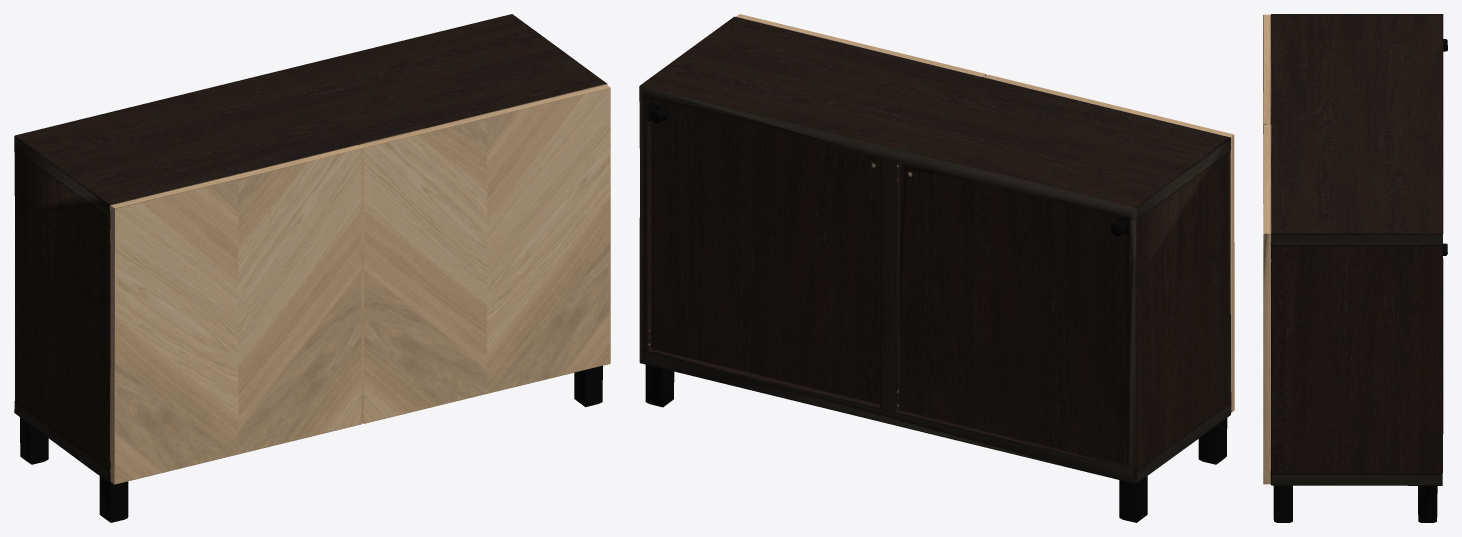
The model's file is 18 - BESTÅ Storage combination with doors - black-brownHedevikenStubbarp oak veneer 120x42x74 cm.glb.
The picture shows the model from 3 angles, left to right: view 1: azimuth 30°, elevation 25°; view 2: azimuth 150°, elevation 25°; view 3: azimuth 270°, elevation 25°; orthographic projection. The views are drawn at different scales.
Parts seen in each view (by area): view 1: ProcessedMeshNode; view 2: ProcessedMeshNode; view 3: ProcessedMeshNode.
Boxes of the visible parts, x1=… form: ProcessedMeshNode: x1=14, y1=14, x2=610, y2=522; ProcessedMeshNode: x1=639, y1=14, x2=1234, y2=522; ProcessedMeshNode: x1=1263, y1=14, x2=1447, y2=522.
Size of the model in its own units: 1.2 by 0.7408 by 0.4254.
1 material, 1 textured.
